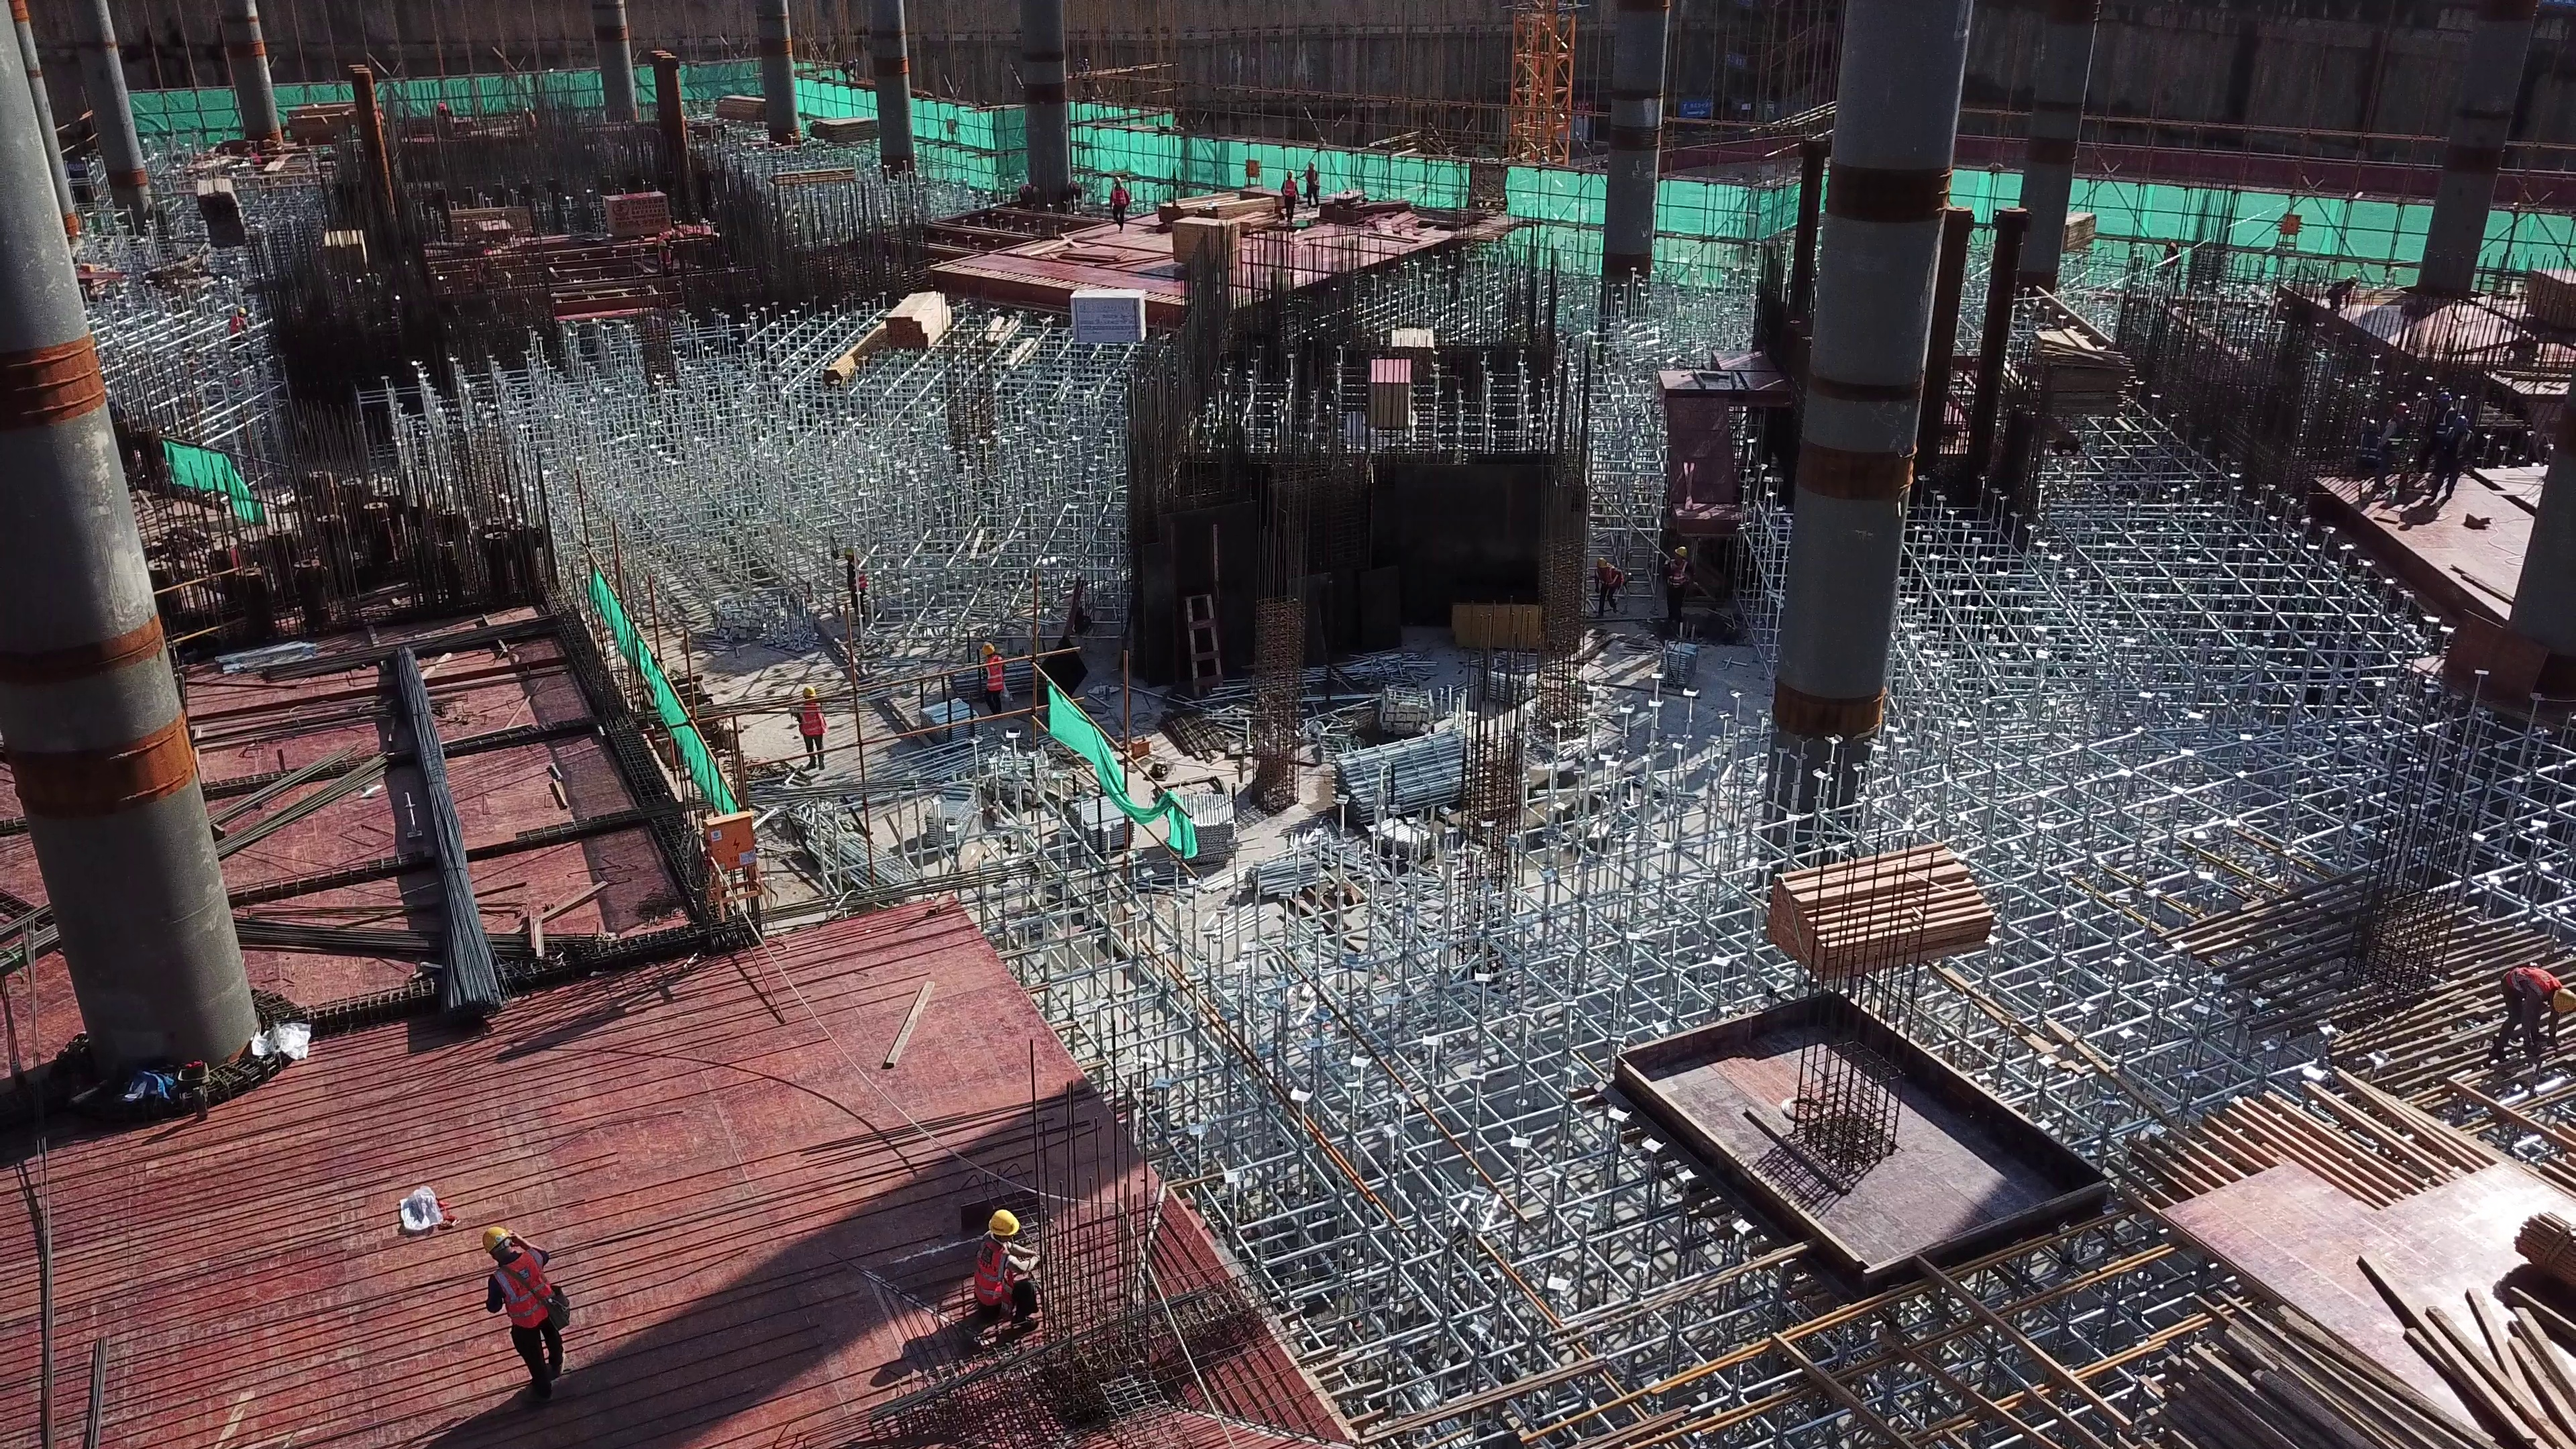board: (2194, 1166, 2538, 1382), (1371, 354, 1417, 430)
ebox: (693, 817, 760, 920), (2269, 212, 2306, 255), (1242, 160, 1259, 180)
helmet: (980, 1212, 1021, 1239), (478, 1224, 506, 1248), (2551, 989, 2574, 1014), (802, 686, 814, 699), (981, 644, 992, 656)
person: (462, 1220, 564, 1386), (2484, 957, 2576, 1070), (963, 1212, 1037, 1340), (967, 643, 1012, 724), (1655, 545, 1693, 638), (791, 686, 829, 776), (1596, 554, 1625, 616), (1107, 179, 1131, 235), (1277, 171, 1299, 228), (1299, 164, 1323, 208)
rebar: (377, 637, 495, 1028)
scaffold: (1324, 729, 1476, 823), (1224, 846, 1338, 898), (1169, 788, 1242, 859), (1066, 788, 1125, 855), (926, 784, 981, 843), (1658, 642, 1701, 696), (918, 702, 973, 735), (1489, 670, 1534, 702)
vest: (491, 1260, 550, 1336), (967, 1238, 1012, 1322), (2494, 960, 2553, 1001), (797, 703, 829, 736), (981, 657, 1002, 696), (1279, 179, 1295, 198), (1110, 189, 1126, 205)
wood: (1767, 842, 1987, 955), (880, 290, 949, 346), (1166, 213, 1240, 265), (1166, 195, 1266, 226)
